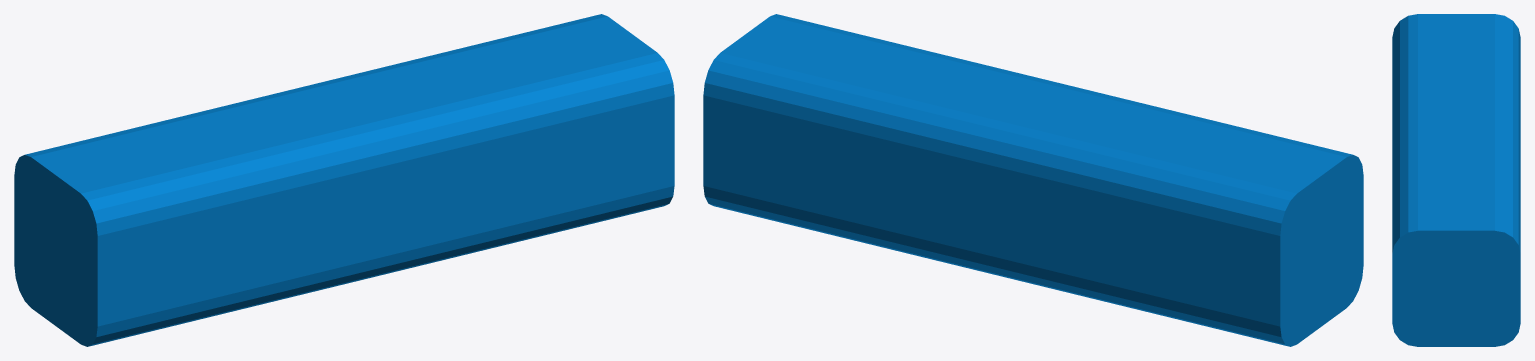
File: r_gripper_link.dae
The picture shows the model from 3 angles, left to right: view 1: azimuth 30°, elevation 25°; view 2: azimuth 150°, elevation 25°; view 3: azimuth 270°, elevation 25°; orthographic projection. The views are drawn at different scales.
Visible parts, largest first — view 1: r_gripper_link; view 2: r_gripper_link; view 3: r_gripper_link.
Boxes of the visible parts, x1=… form: r_gripper_link: x1=14, y1=14, x2=674, y2=346; r_gripper_link: x1=703, y1=14, x2=1363, y2=346; r_gripper_link: x1=1392, y1=14, x2=1520, y2=346.
Bounding box in the file's own units: 0.02 × 0.005 × 0.005.
